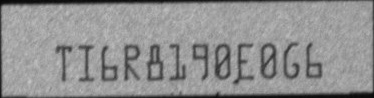0: (214, 42, 231, 80), (260, 42, 277, 80)
1: (167, 43, 185, 81)
6: (305, 42, 322, 79), (101, 45, 118, 81)
8: (146, 43, 164, 81)
9: (192, 44, 210, 81)
E: (237, 42, 254, 80)
G: (283, 42, 301, 79)
I: (78, 44, 94, 82)
R: (124, 44, 143, 81)
T: (55, 45, 71, 82)
